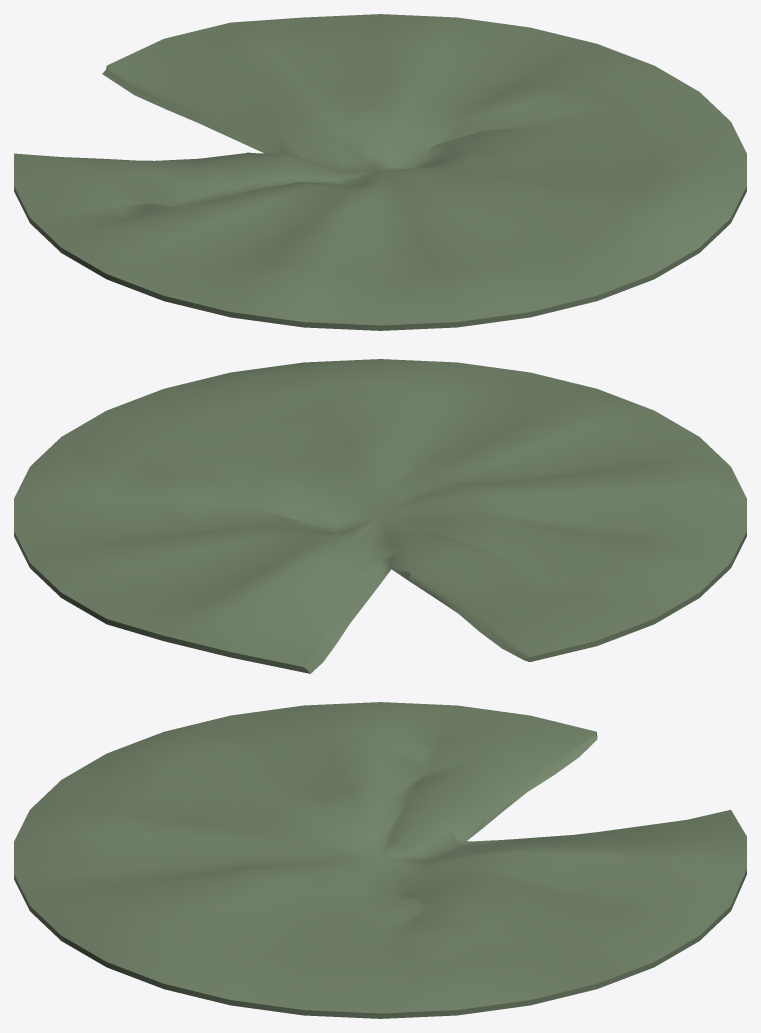
File: lily_pad.fbx
The picture shows the model from 3 angles, top to bottom: view 1: azimuth 30°, elevation 25°; view 2: azimuth 150°, elevation 25°; view 3: azimuth 270°, elevation 25°; orthographic projection.
Visible parts, largest first — view 1: pCylinder1; view 2: pCylinder1; view 3: pCylinder1.
Boxes of the visible parts, <box> form: pCylinder1: <box>14,14,746,330</box>; pCylinder1: <box>14,359,746,673</box>; pCylinder1: <box>14,702,746,1018</box>.
Bounding box in the file's own units: 69.12 × 4.04 × 68.74.
